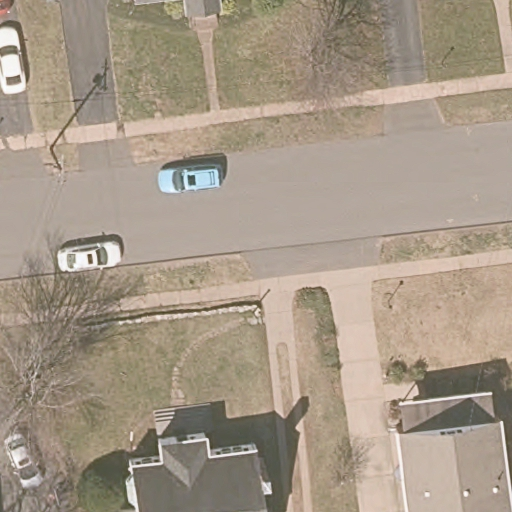DT: (43, 145, 73, 183)
